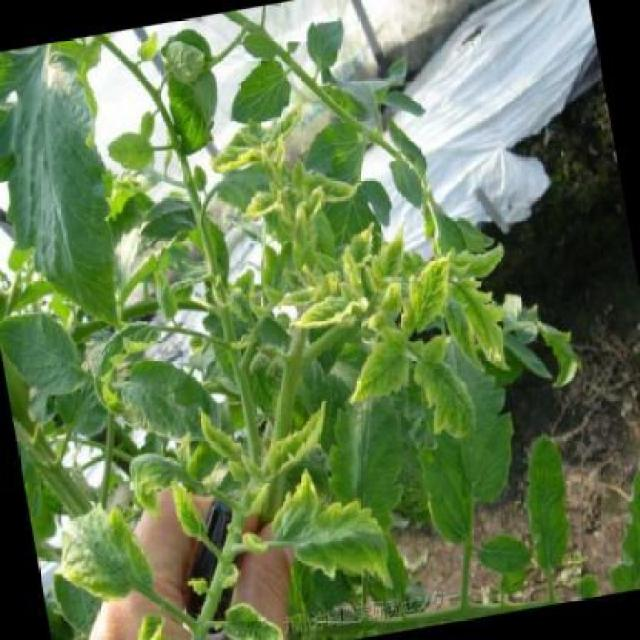Healthy Leaf: (259, 459, 412, 610), (45, 492, 173, 626), (232, 390, 346, 502), (408, 338, 479, 449), (332, 322, 423, 408), (123, 430, 215, 504), (392, 252, 462, 336), (282, 286, 363, 342), (216, 590, 287, 639), (233, 179, 285, 230)
